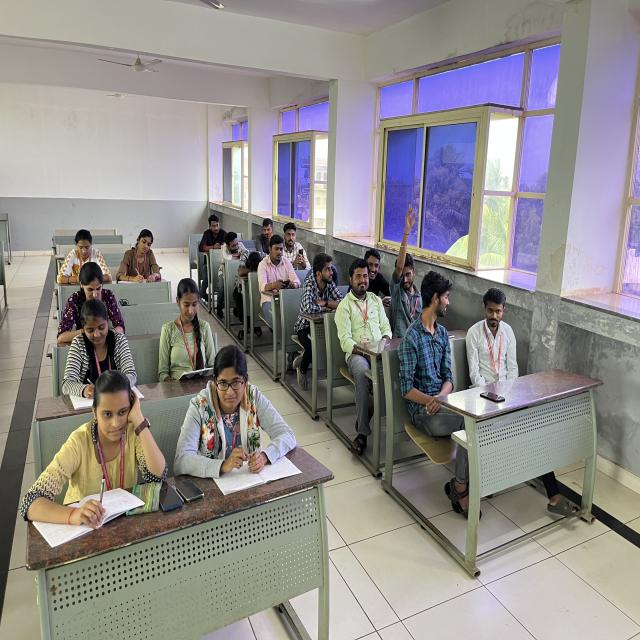Hand Rising: (388, 200, 425, 320)
Reading: (157, 276, 221, 387)
Sleeping: (236, 247, 268, 282), (219, 230, 250, 264)
Using Phone: (256, 232, 300, 300), (280, 220, 313, 274), (196, 211, 228, 254)
Writing: (20, 366, 170, 523), (59, 297, 145, 396), (119, 226, 161, 285)
